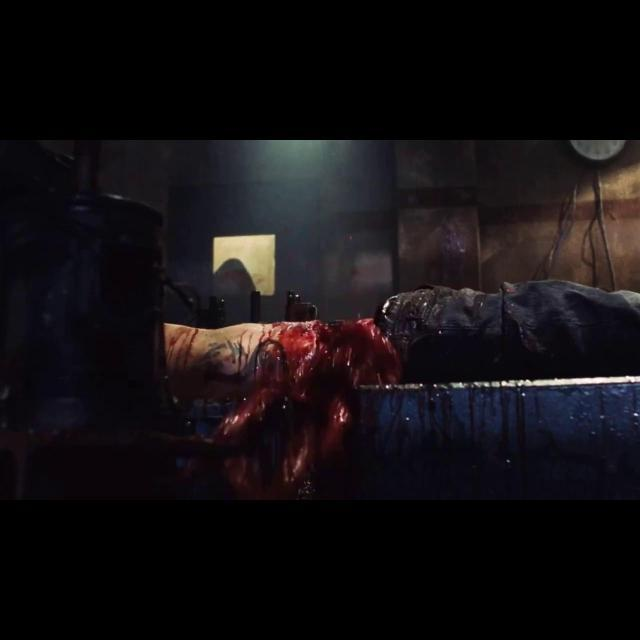blood: (226, 319, 580, 499), (164, 324, 207, 375)
